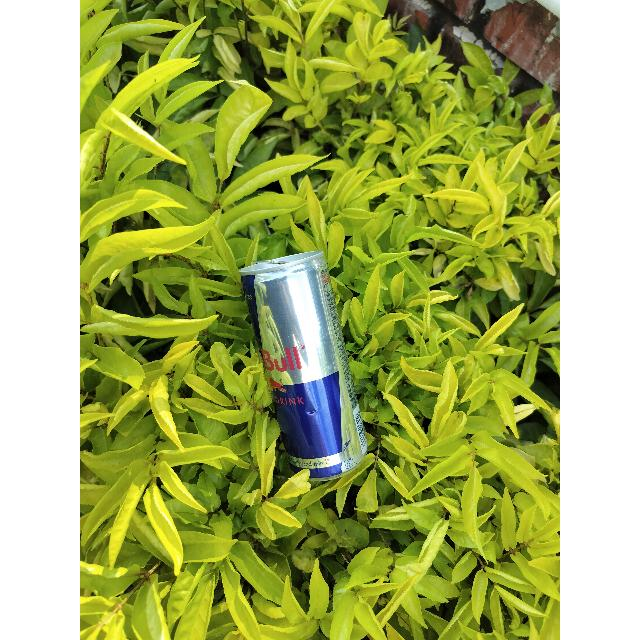Redbull: (238, 248, 374, 484)
